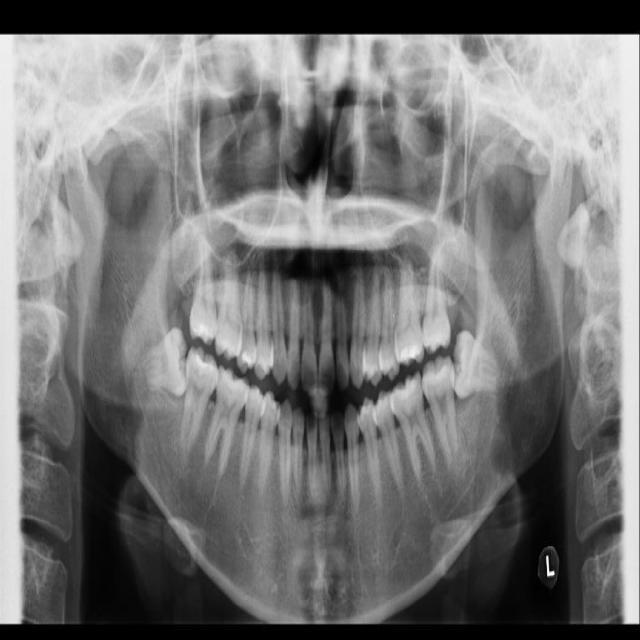52: (378, 368, 438, 425), (183, 344, 220, 403), (184, 299, 222, 348), (393, 324, 427, 369), (236, 333, 258, 375)
73: (596, 540, 602, 550)
BioHorizons Implant: (416, 235, 453, 355)
Biomet 3i Implant: (443, 325, 504, 400)
Blue Sky Bio Implant: (420, 353, 460, 463)
Caries: (189, 220, 217, 347)
Implant: (178, 344, 221, 452)
Keystone Dental Implant: (137, 325, 195, 401)
